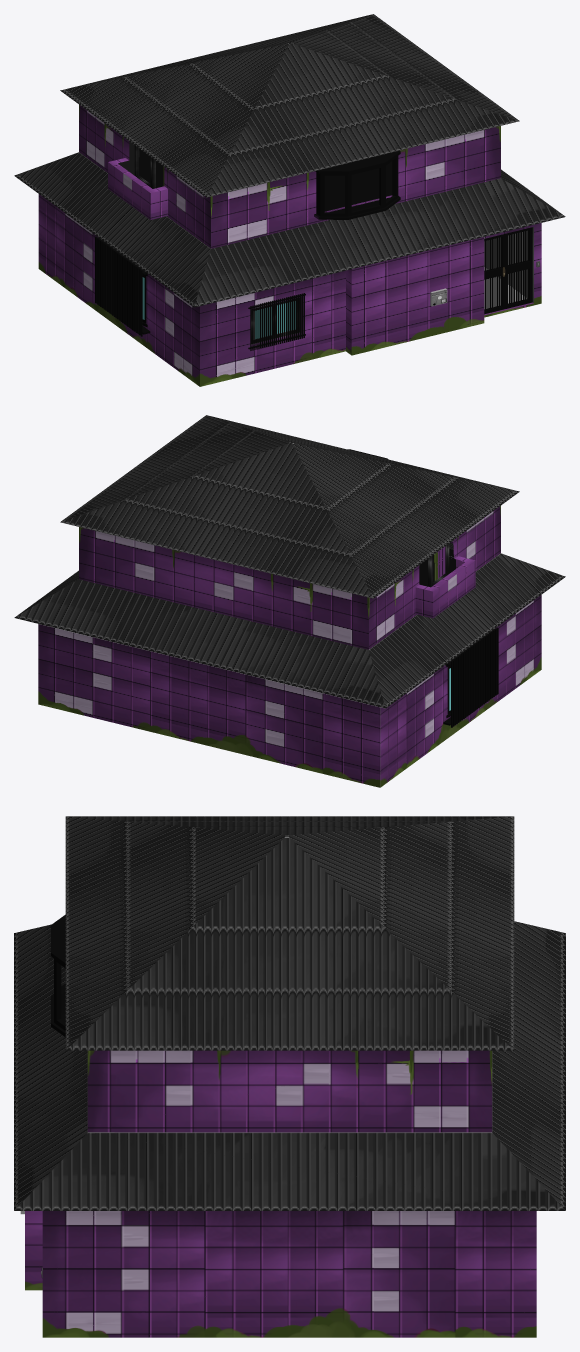
File: House_3_Purple_empty.fbx
3 views of the same model, one above another, from view 1: azimuth 30°, elevation 25°; view 2: azimuth 150°, elevation 25°; view 3: azimuth 270°, elevation 25° (orthographic). The views are drawn at different scales.
Parts seen in each view (by area): view 1: A2, A, A3, Cube.054, Cube.056, Cube.078, Cube.058, Cube.063; view 2: A2, A, A3, Cube.054; view 3: A, A2, A3.
Part boxes in pixels (x1=…): A2: x1=14, y1=43, x2=565, y2=307; A: x1=60, y1=14, x2=519, y2=197; A3: x1=38, y1=194, x2=541, y2=386; Cube.054: x1=95, y1=236, x2=142, y2=336; Cube.056: x1=250, y1=293, x2=304, y2=350; Cube.078: x1=505, y1=227, x2=532, y2=308; Cube.058: x1=484, y1=234, x2=505, y2=314; Cube.063: x1=251, y1=298, x2=299, y2=344; A2: x1=14, y1=442, x2=565, y2=708; A: x1=60, y1=415, x2=519, y2=598; A3: x1=38, y1=595, x2=541, y2=787; Cube.054: x1=451, y1=627, x2=498, y2=727; A: x1=65, y1=816, x2=514, y2=1050; A2: x1=14, y1=835, x2=565, y2=1210; A3: x1=25, y1=1211, x2=536, y2=1337.
Bounding box in the file's own units: 1371 × 860 × 1151.
